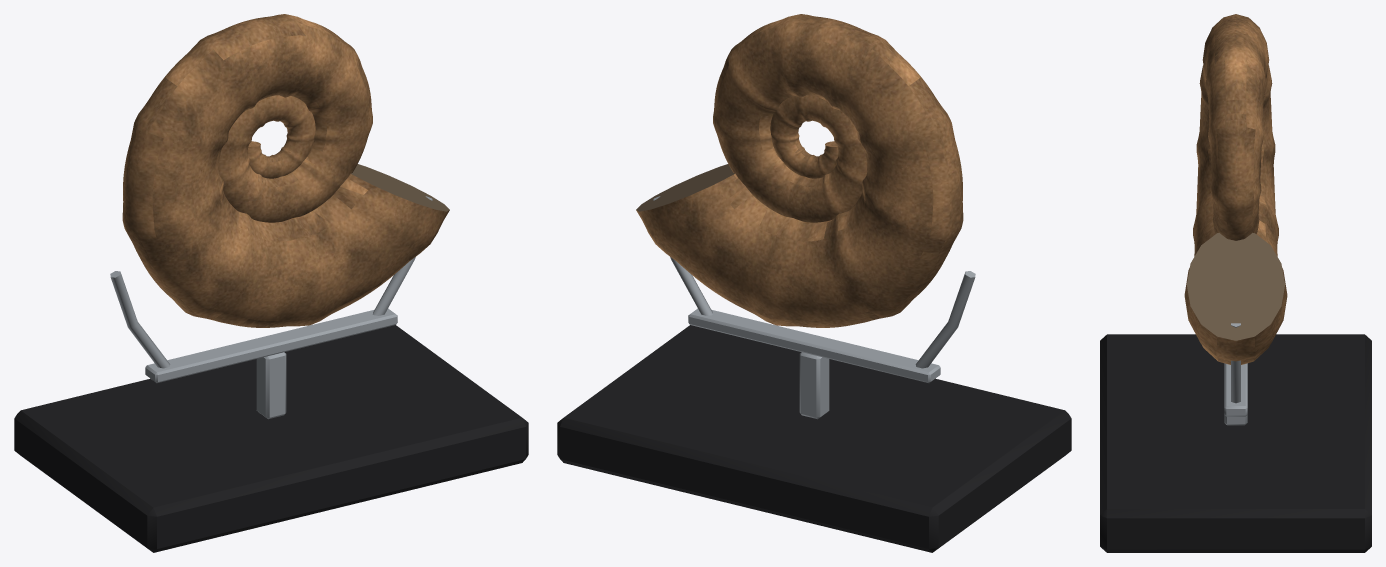
Rendered from ammonite-fossil.glb.
3 views of the same model, side by side, from view 1: azimuth 30°, elevation 25°; view 2: azimuth 150°, elevation 25°; view 3: azimuth 270°, elevation 25° (orthographic). The views are drawn at different scales.
Visible parts, largest first — view 1: Ammonite_Fossil; view 2: Ammonite_Fossil; view 3: Ammonite_Fossil.
Boxes of the visible parts, x1,y1,x2,y2 form: Ammonite_Fossil: [14, 14, 528, 552]; Ammonite_Fossil: [557, 14, 1071, 552]; Ammonite_Fossil: [1100, 14, 1371, 552].
Bounding box in the file's own units: 0.44 × 0.4873 × 0.28.
4 materials, 1 textured.
